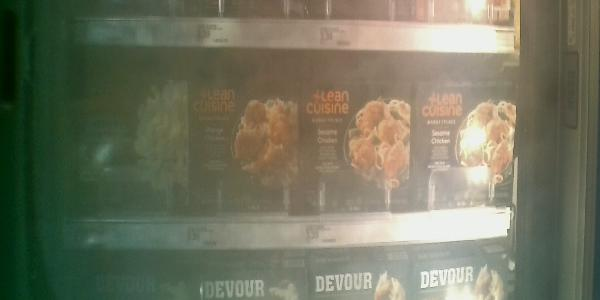pizza1: (74, 70, 188, 214), (304, 81, 419, 214), (191, 86, 299, 221), (421, 77, 516, 218), (190, 86, 209, 99)
